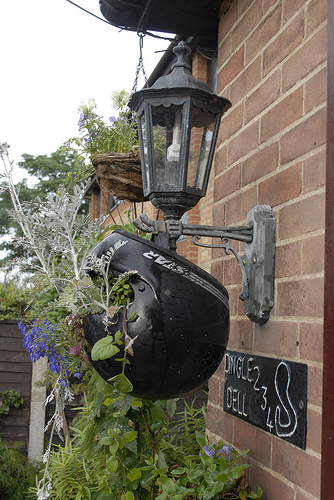helmet: (82, 239, 224, 383)
